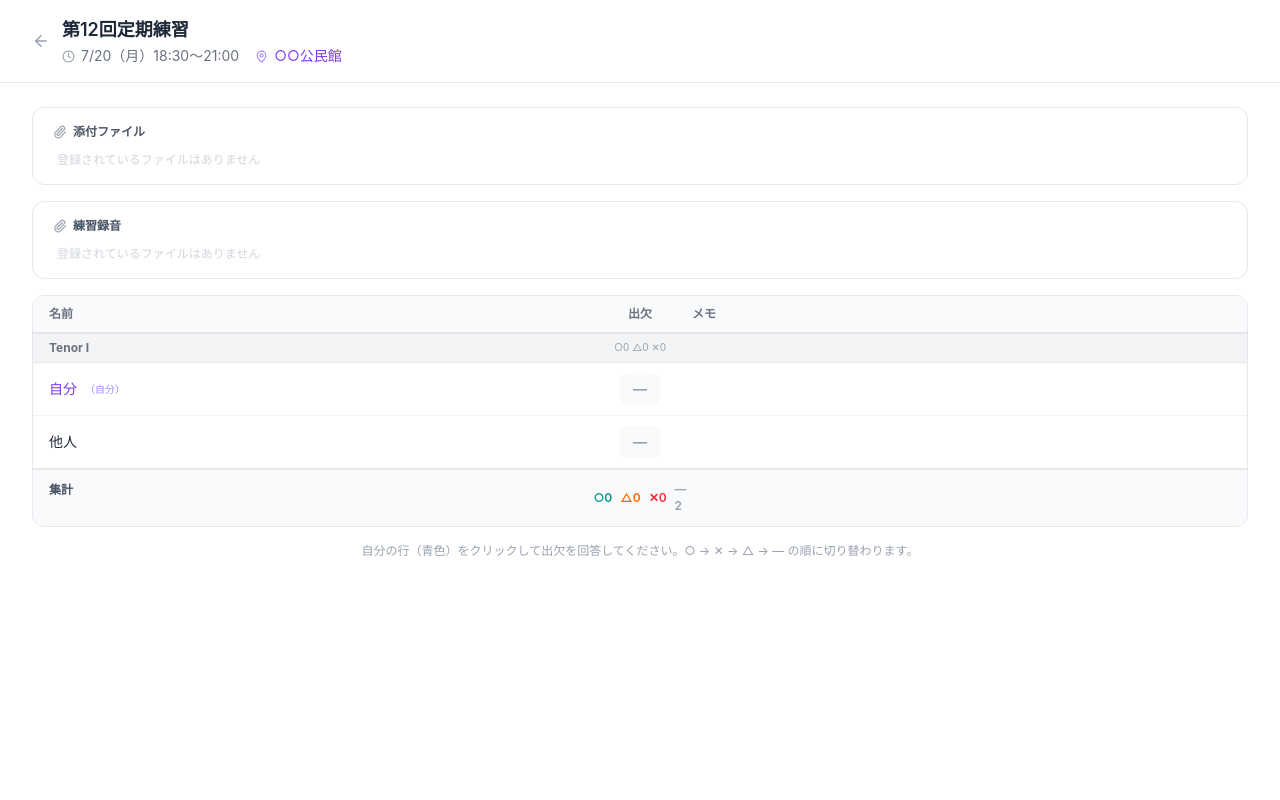
Test case: ScheduleDetailPage（出欠セルのクリック） › maybeへ切り替えるとメモ入力欄が展開される
Click the button titled "クリックで変更" in the row of "（自分）". click: (640, 389)
box: [620, 373, 660, 405]
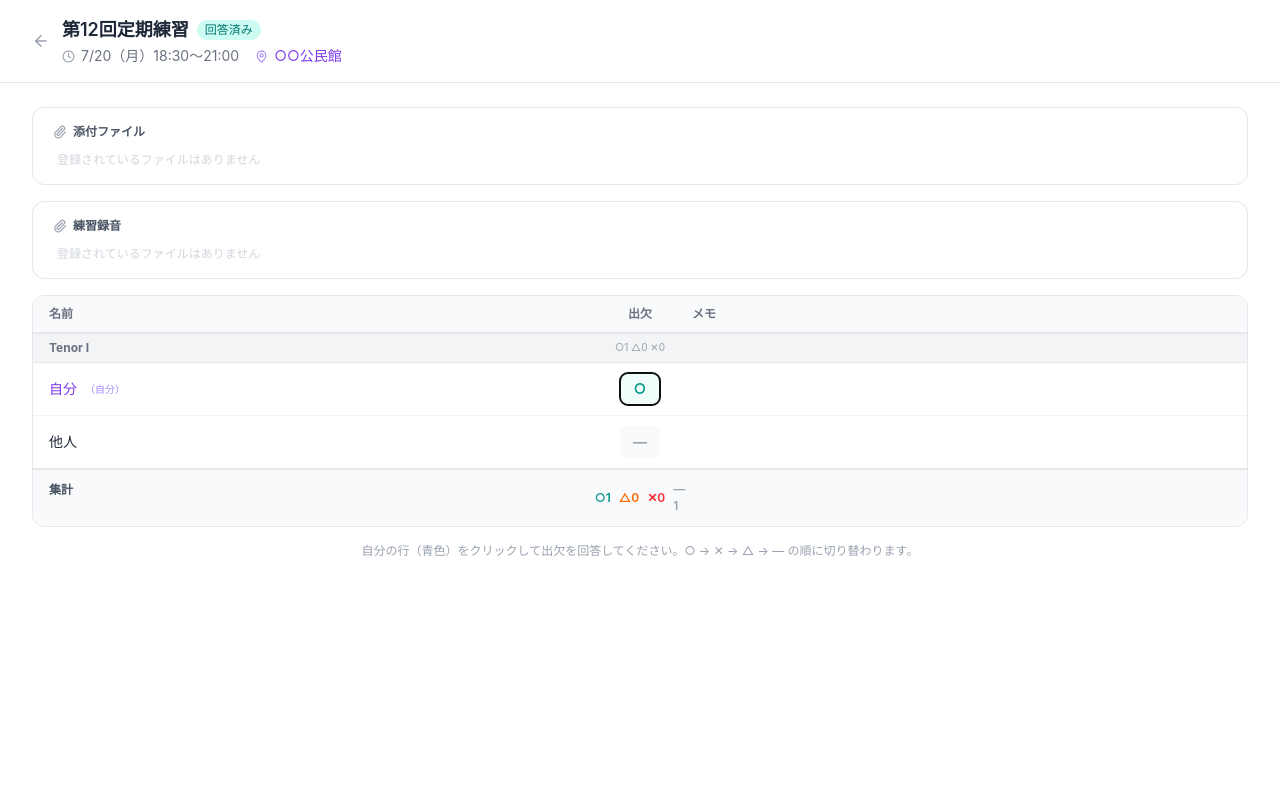
Click the button titled "クリックで変更". click: (640, 389)
box: [620, 373, 660, 405]
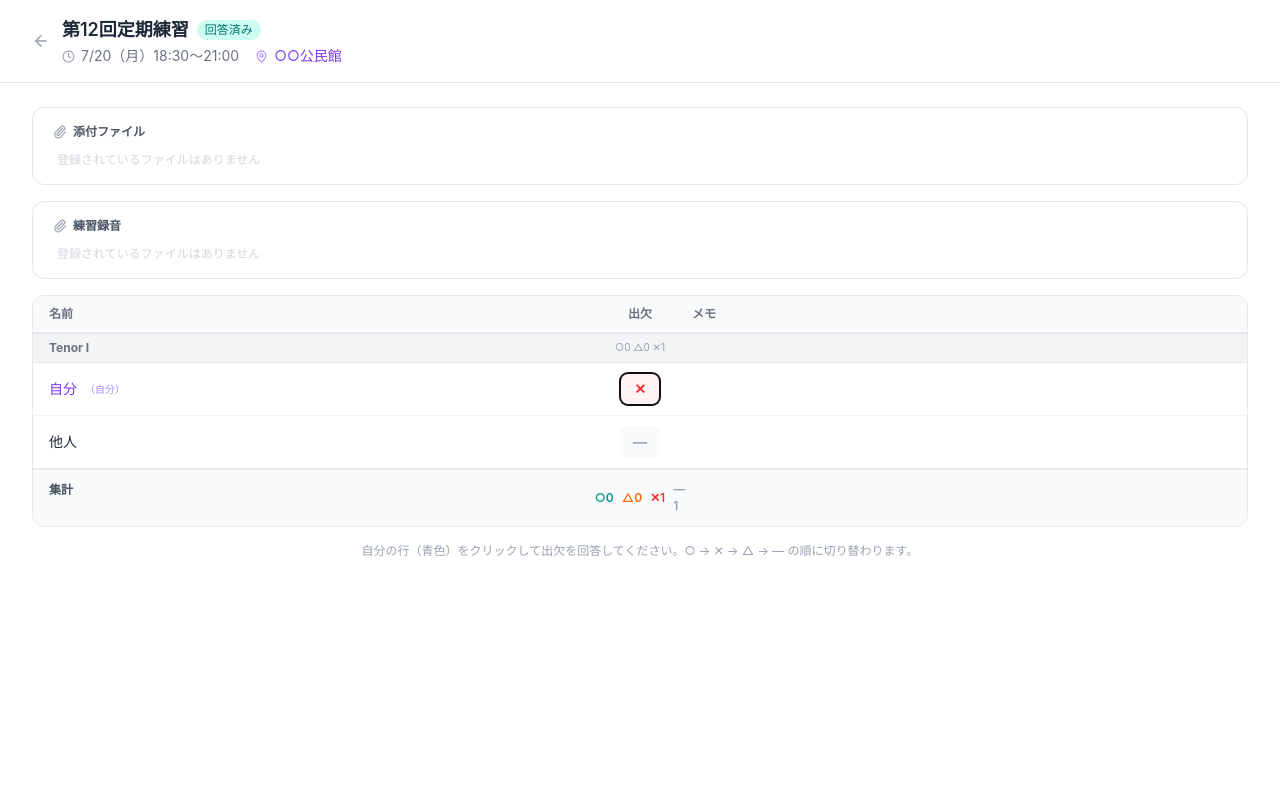
Click the button titled "クリックで変更". click: (640, 389)
box: [620, 373, 660, 405]
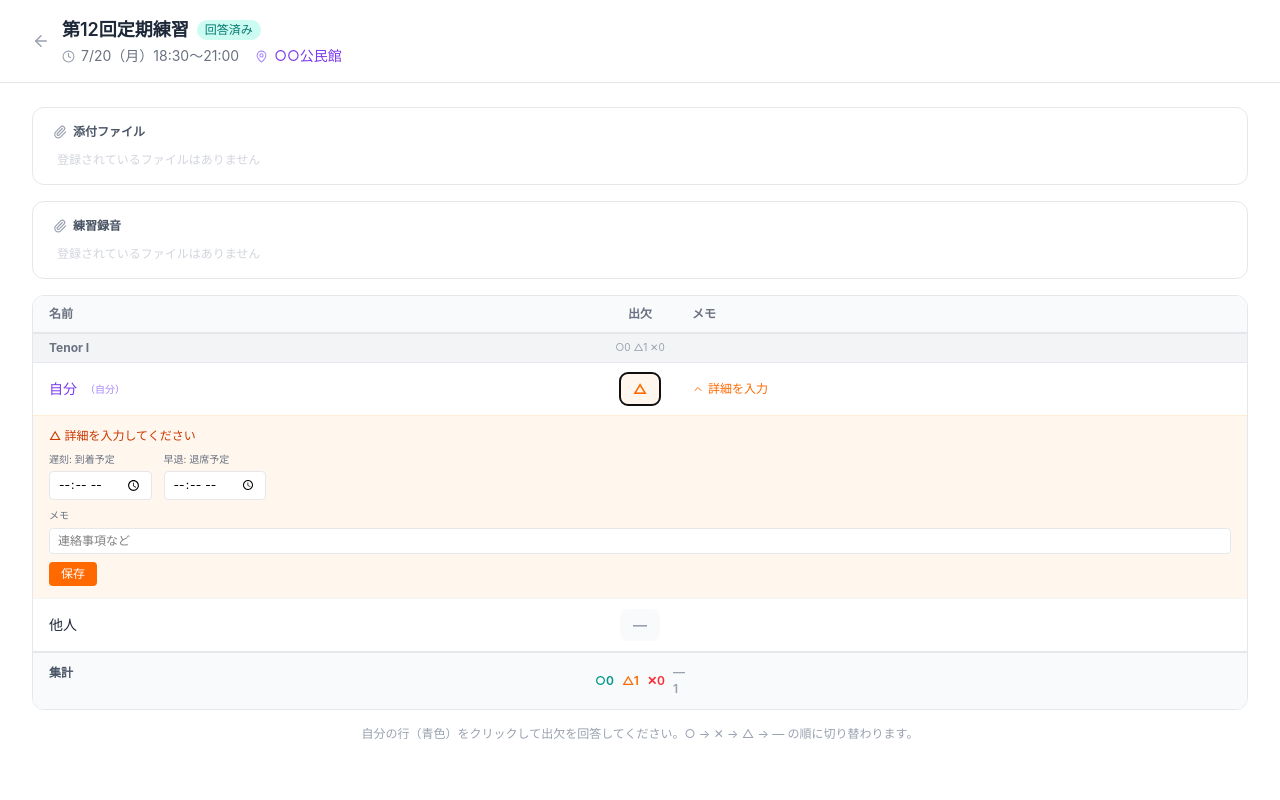
Expected: the text "△ 詳細を入力してください" is shown, [49, 428, 196, 443]
